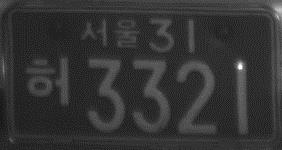1: (230, 59, 254, 140), (181, 15, 202, 55)
2: (173, 59, 221, 137)
3: (130, 55, 174, 133), (84, 58, 125, 134), (146, 16, 176, 54)
서울_O: (79, 16, 142, 50)
허: (24, 54, 73, 112)
